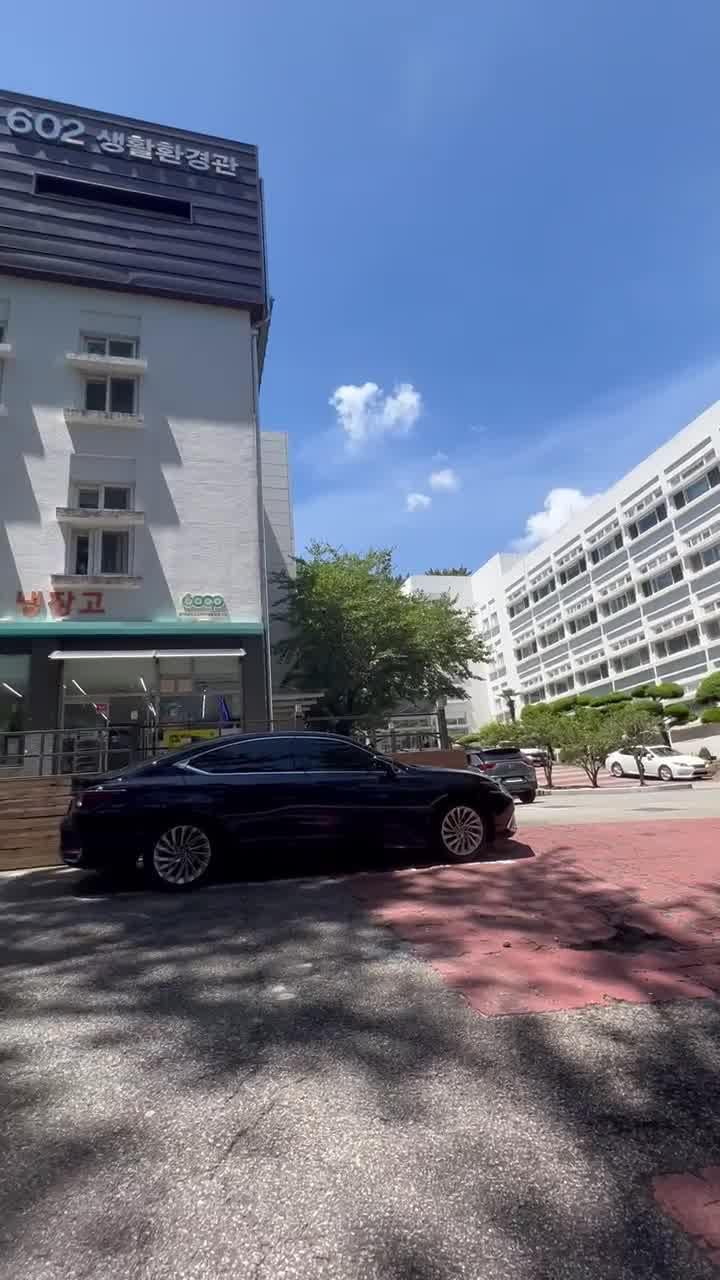building: (0, 80, 290, 734)
